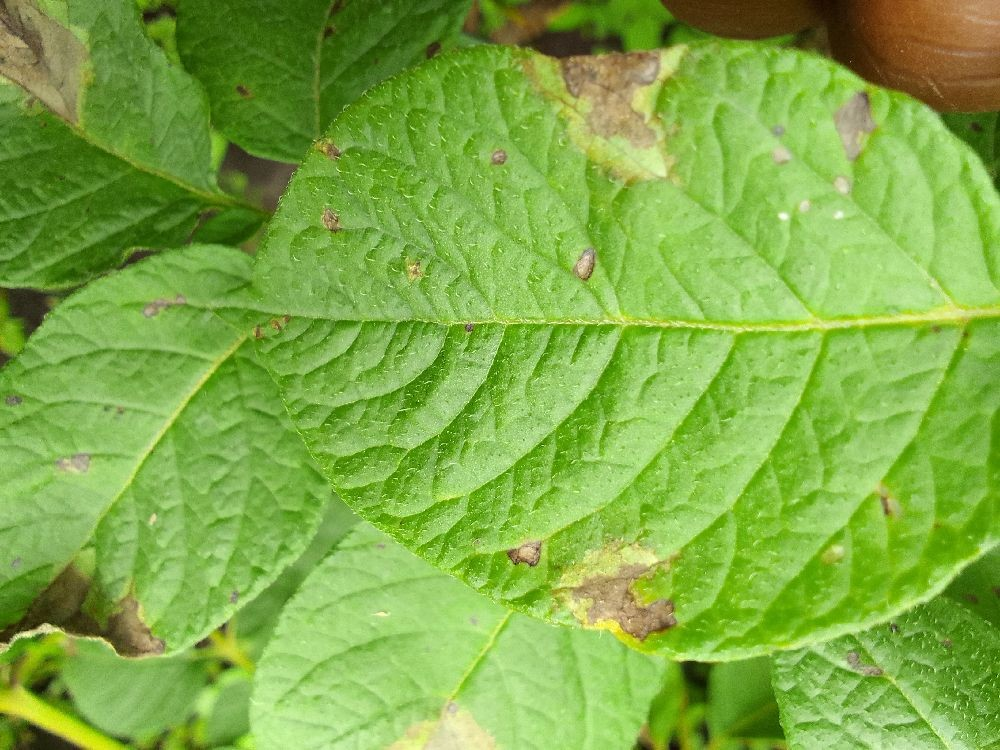late_blight: (620, 0, 1000, 172), (446, 0, 680, 166), (0, 544, 182, 676), (0, 0, 89, 137)
